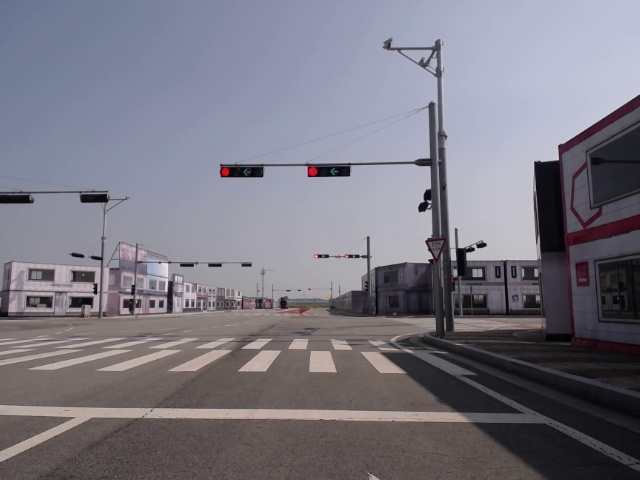left_green_4: (221, 166, 263, 177), (308, 166, 350, 177), (314, 255, 329, 258), (345, 255, 359, 258)
